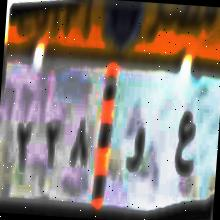2: (38, 112, 66, 184), (10, 112, 36, 183)
8: (66, 112, 94, 180)
ain: (170, 104, 199, 189)
waw: (119, 116, 152, 189)
